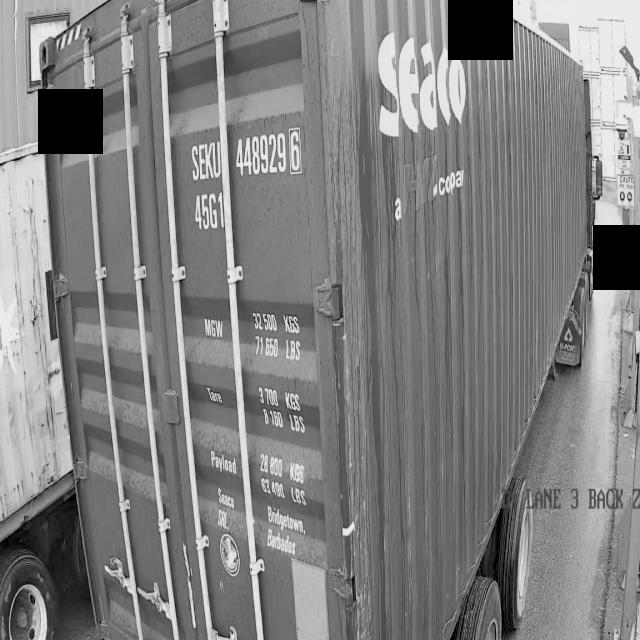container_company_logo: (380, 33, 480, 147)
container_number: (188, 115, 304, 254)
other_container_info: (198, 281, 329, 545)
truck_with_container: (41, 0, 592, 640)
